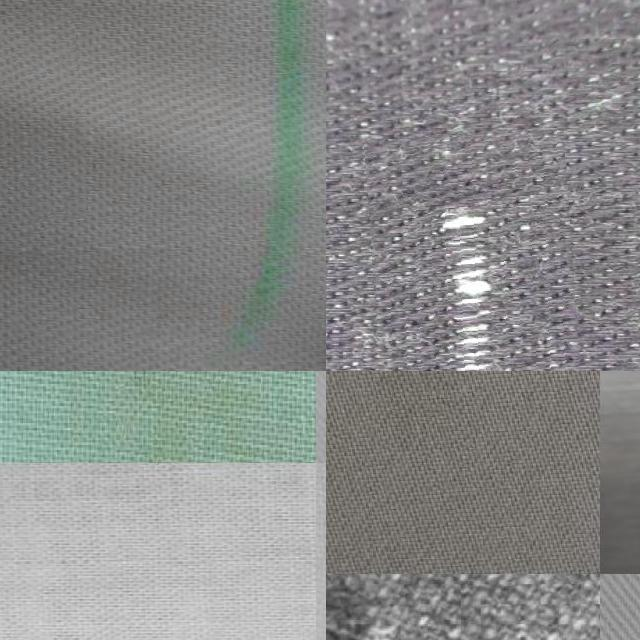Thread_other: (0, 371, 315, 463), (333, 371, 470, 415)
stains: (370, 130, 585, 371)
